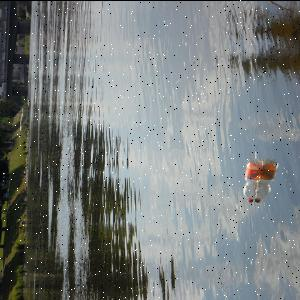Plastic-bottle: (243, 158, 265, 204)
